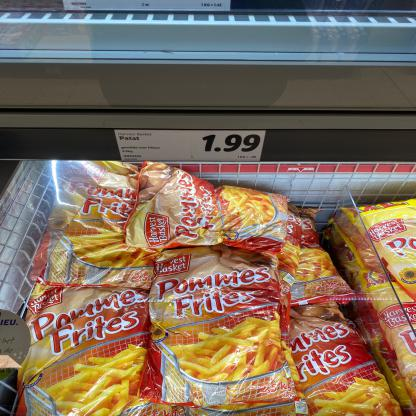prtg: (115, 130, 267, 162)
